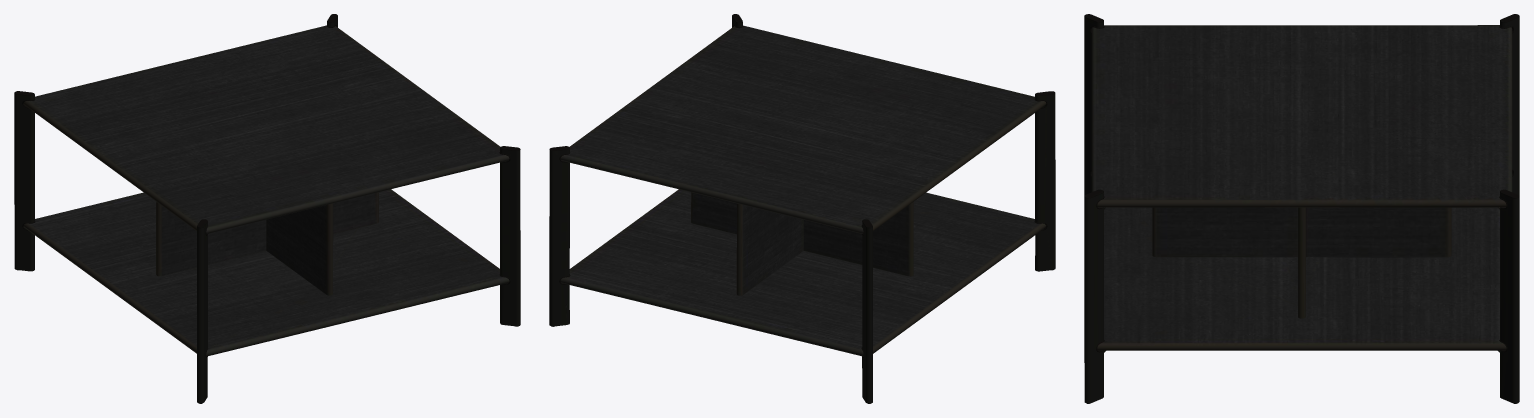
The picture shows the model from 3 angles, left to right: view 1: azimuth 30°, elevation 25°; view 2: azimuth 150°, elevation 25°; view 3: azimuth 270°, elevation 25°; orthographic projection. The views are drawn at different scales.
Parts seen in each view (by area): view 1: model; view 2: model; view 3: model.
Part boxes in pixels (bbox=[...]): model: bbox=[14, 14, 520, 403]; model: bbox=[549, 14, 1055, 403]; model: bbox=[1084, 14, 1519, 403].
Bounding box in the file's own units: 0.8002 × 0.4196 × 0.8001.
1 material, 1 textured.
